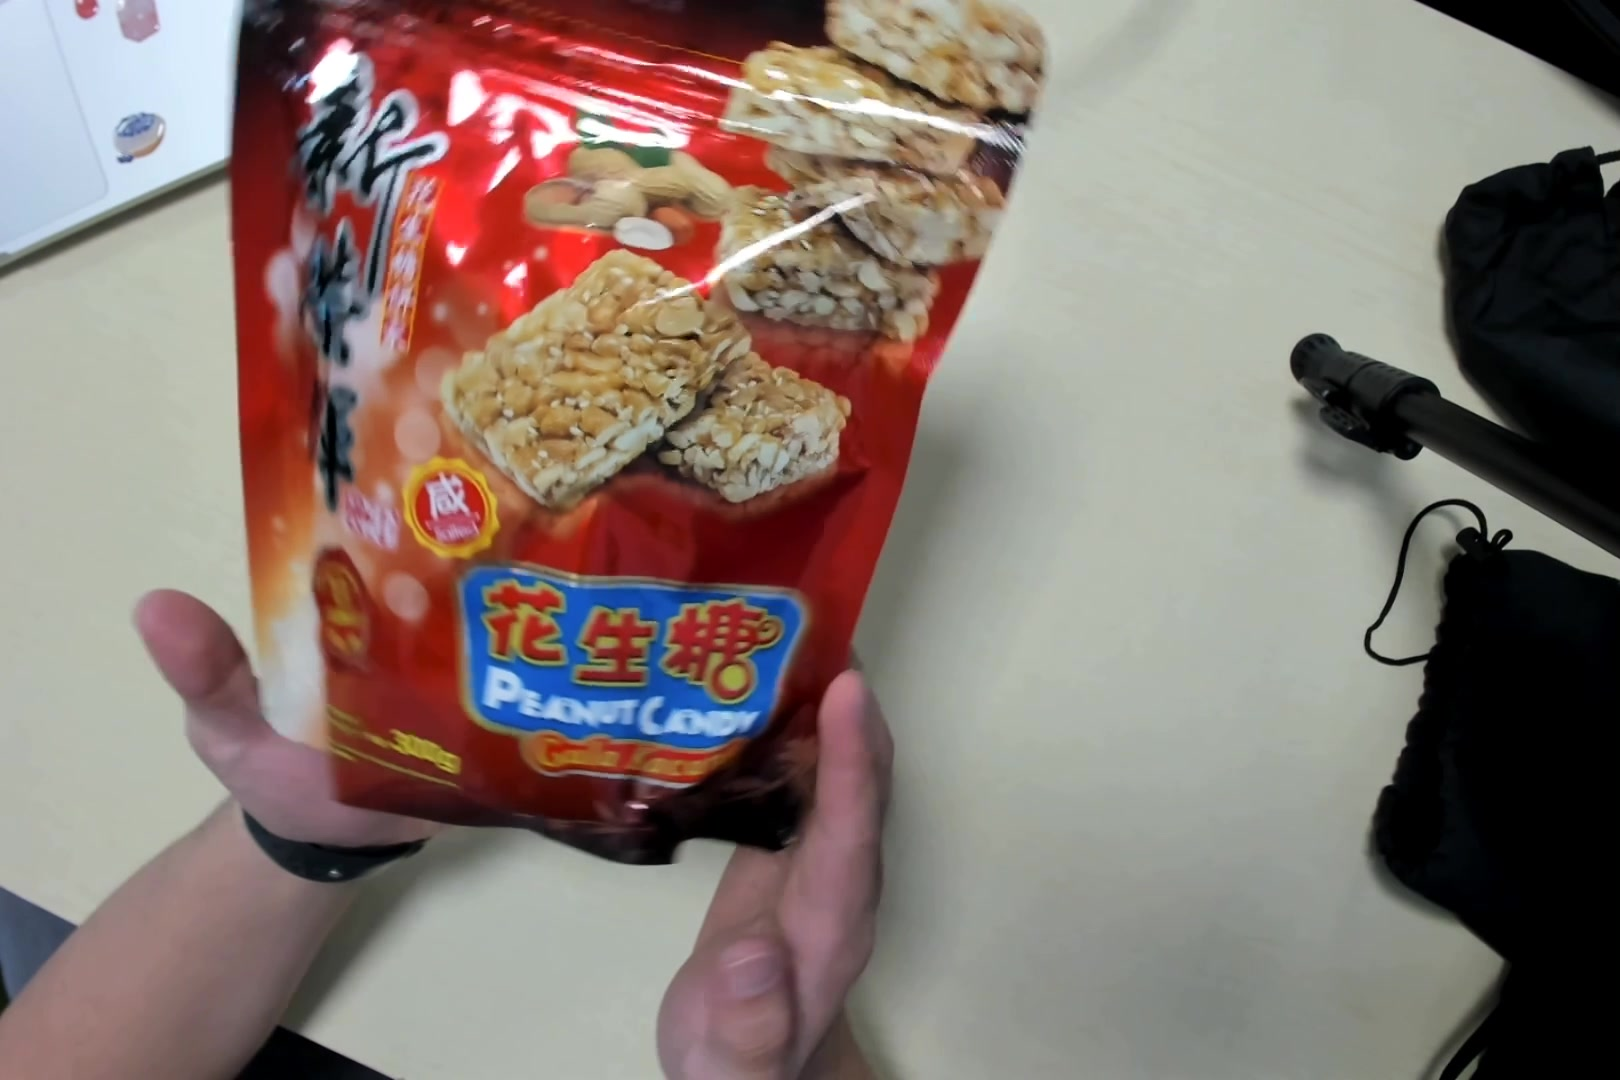SweetsChocolatesOthers_300-399g_NonHalal_NonHealthy: (221, 6, 1051, 859)
